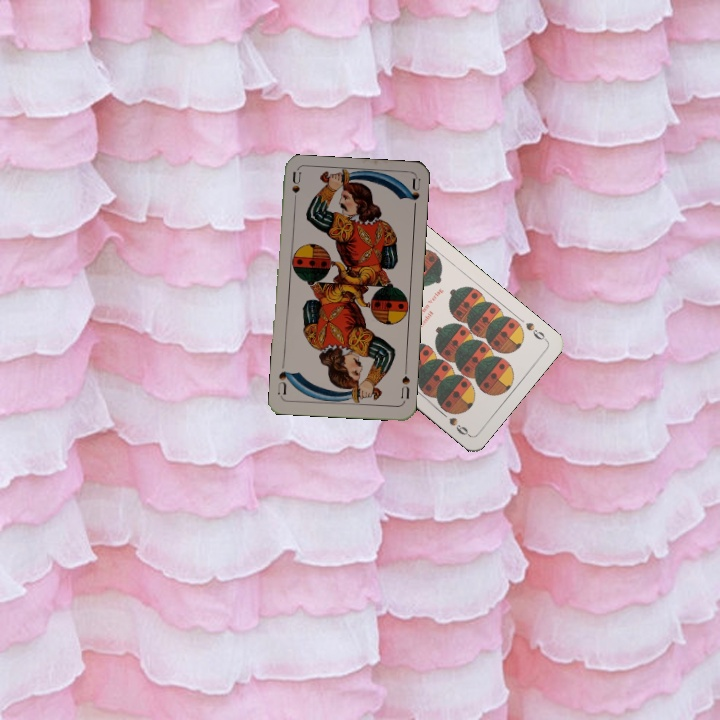S9: (522, 318, 550, 344)
SU: (397, 364, 412, 405), (288, 169, 303, 210)
